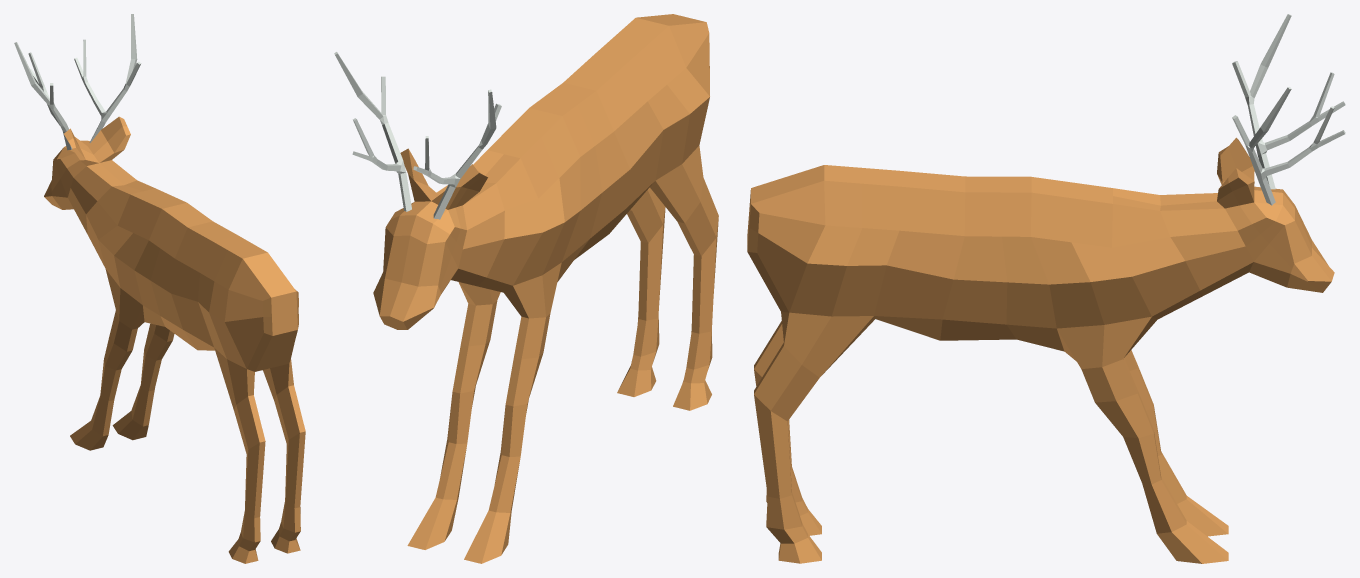
File: deer.glb
The picture shows the model from 3 angles, left to right: view 1: azimuth 30°, elevation 25°; view 2: azimuth 150°, elevation 25°; view 3: azimuth 270°, elevation 25°; orthographic projection. The views are drawn at different scales.
Parts seen in each view (by area): view 1: Plan, Plan.001; view 2: Plan, Plan.001; view 3: Plan, Plan.001.
Boxes of the visible parts, left/top/right/bottom form: Plan: left=44, top=116, right=305, bottom=563; Plan.001: left=14, top=14, right=141, bottom=150; Plan: left=373, top=14, right=718, bottom=563; Plan.001: left=334, top=52, right=501, bottom=219; Plan: left=747, top=137, right=1334, bottom=563; Plan.001: left=1232, top=14, right=1345, bottom=205.
Bounding box in the file's own units: 0.994 × 3.05 × 3.35.
